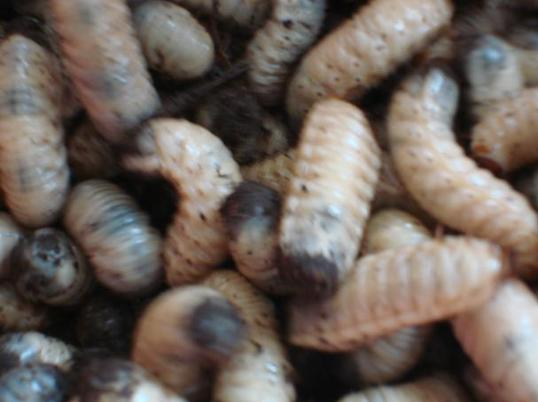grub: (284, 99, 384, 292)
